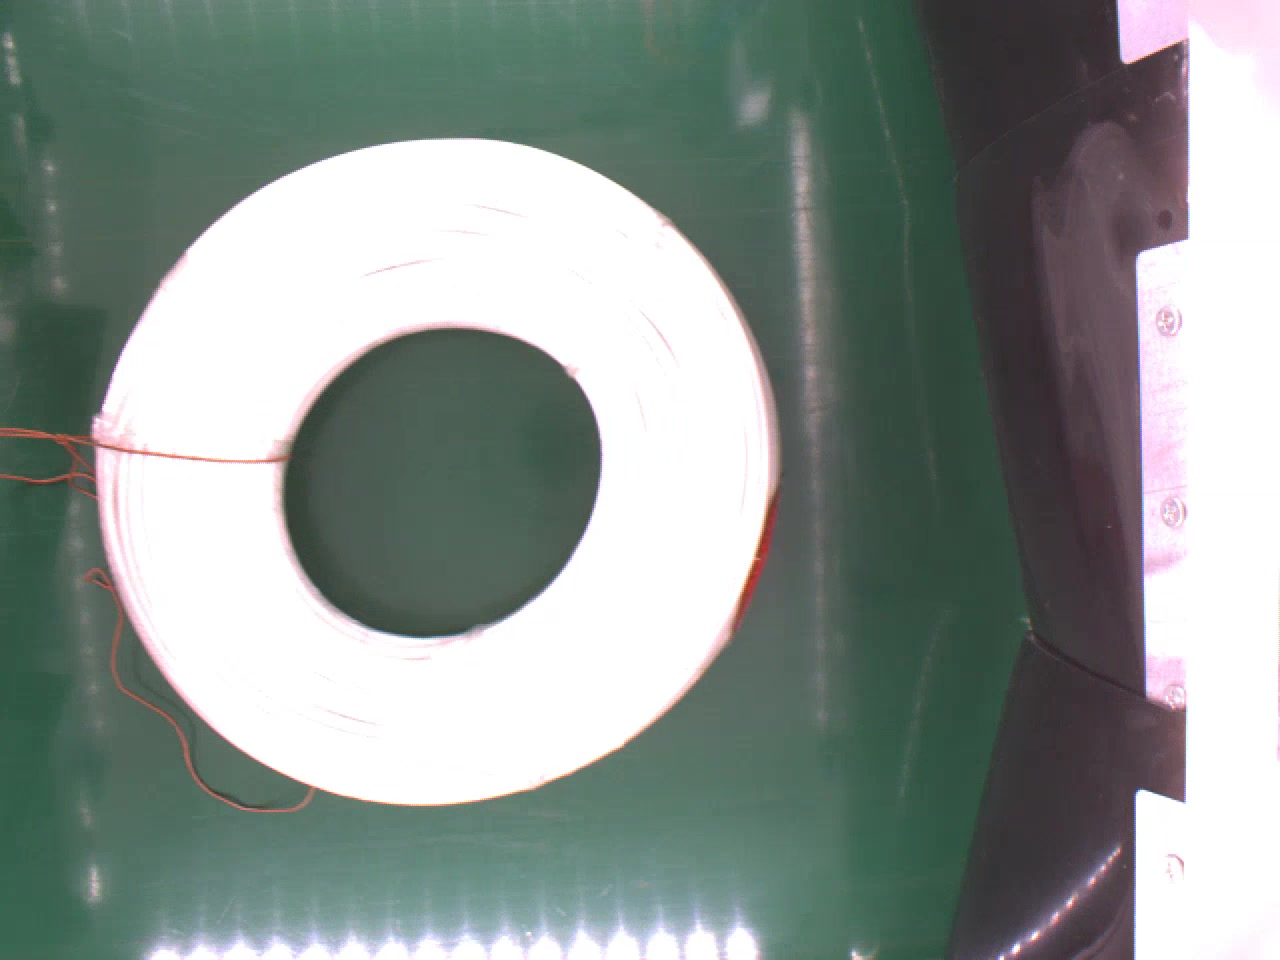white: (92, 137, 774, 802)
